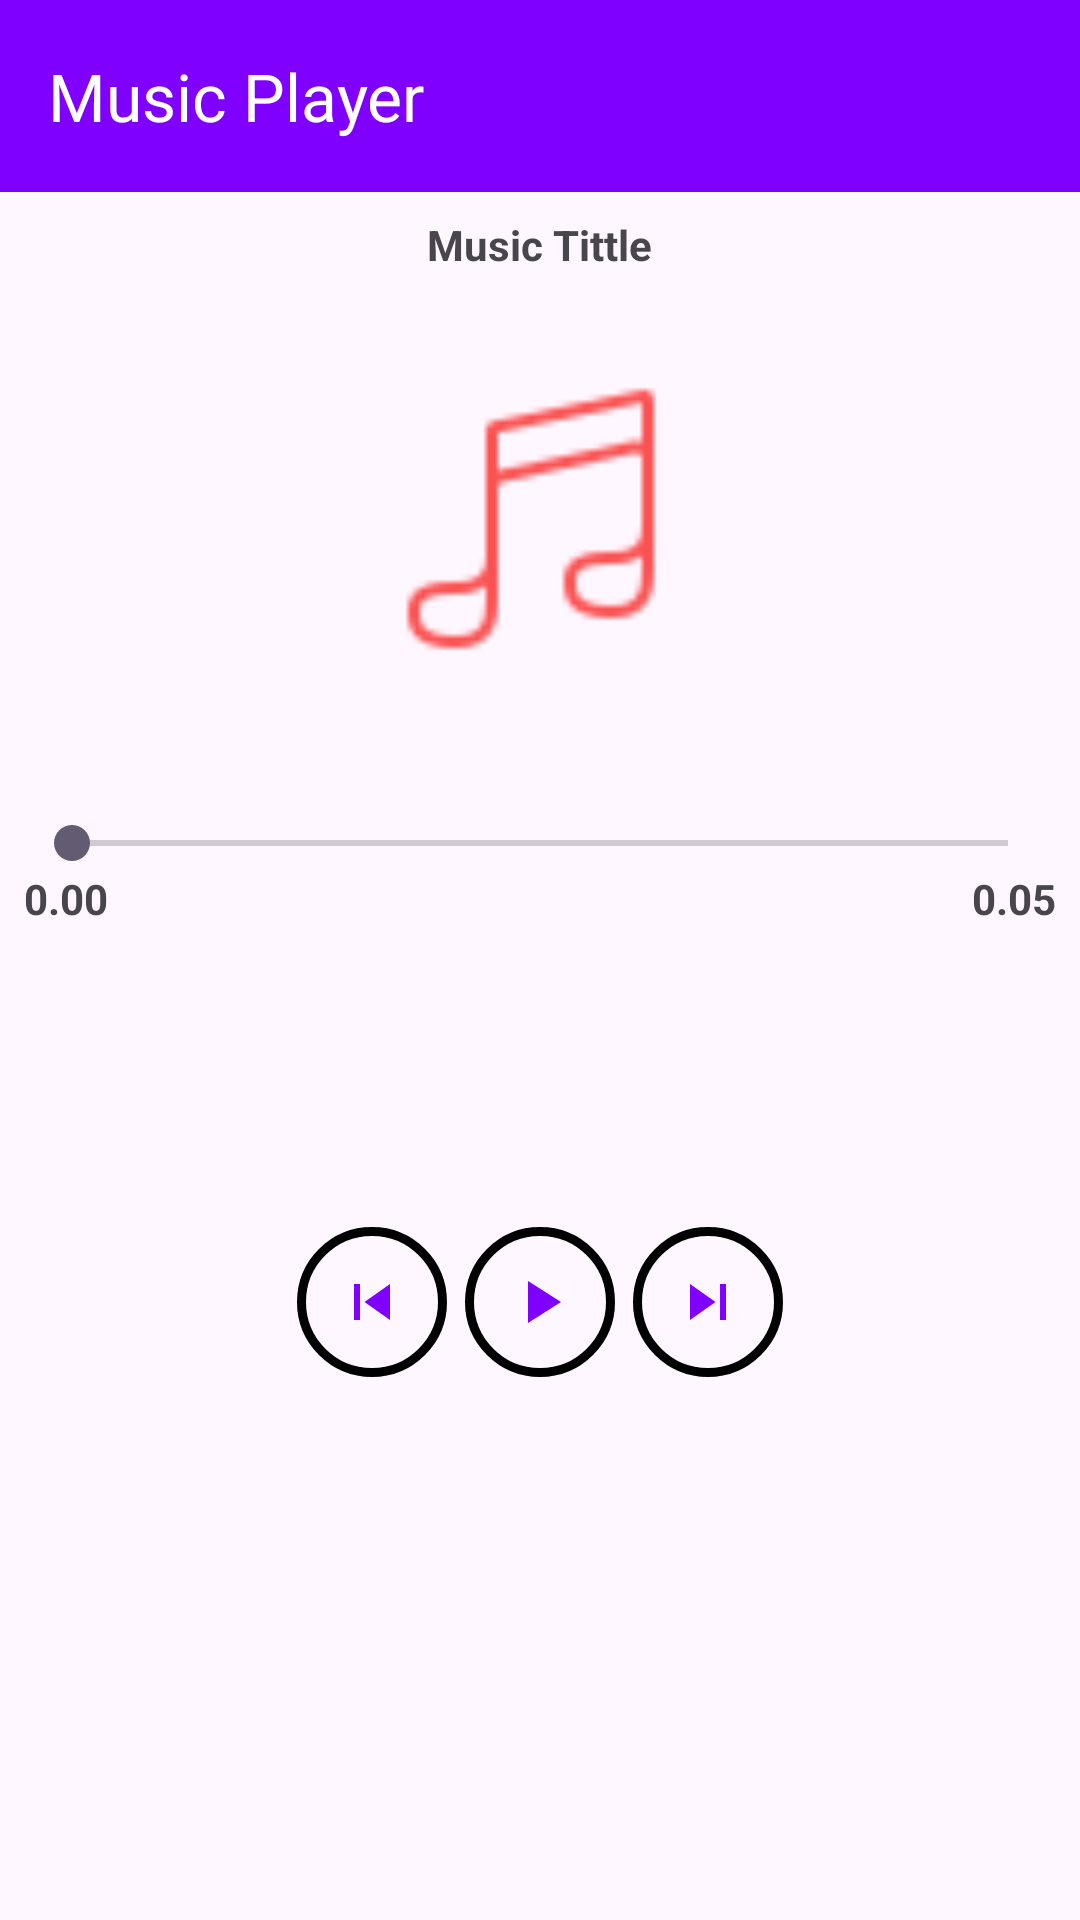

Where to tap for icons on this 1080w x 1920h app screen, as [x,y]:
play arrow: [540,1302]
skip next: [708,1302]
skip previous: [372,1302]
